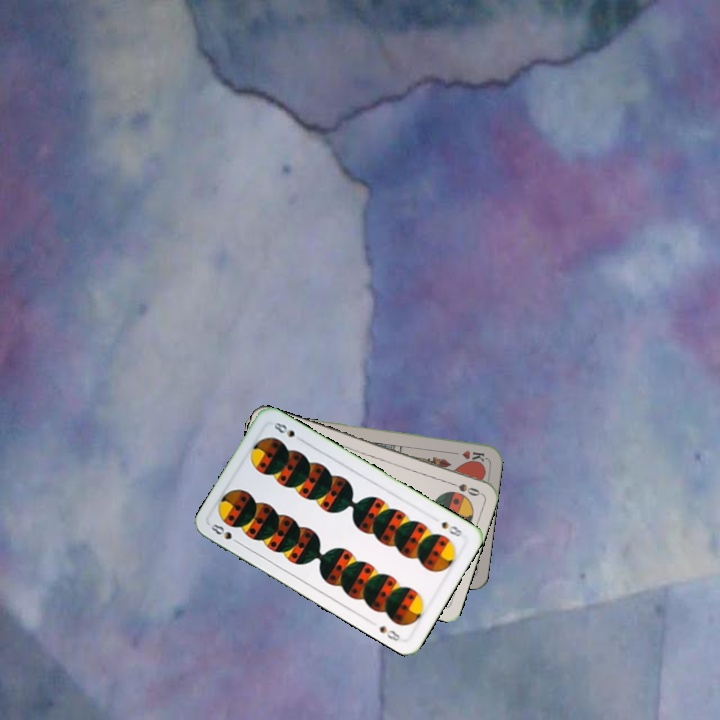HK: (447, 446, 487, 464)
S8: (207, 519, 244, 547), (437, 517, 465, 539)
SO: (444, 477, 483, 499)
